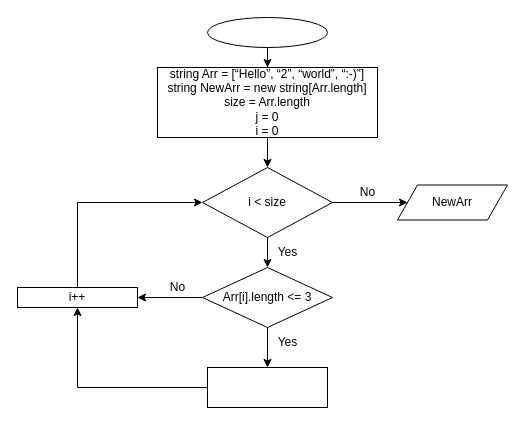
Some shapes in this 525 by 425 pixel diagram are drawn without their labels. Here are the shapes that lost their labels. From the top down, the box of each, then its label:
(206, 16, 328, 48): Start
(206, 366, 328, 408): NewArr[j] = Arr[i] j++
